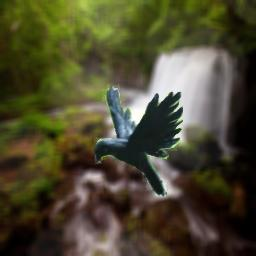Crow: (94, 83, 183, 197)
